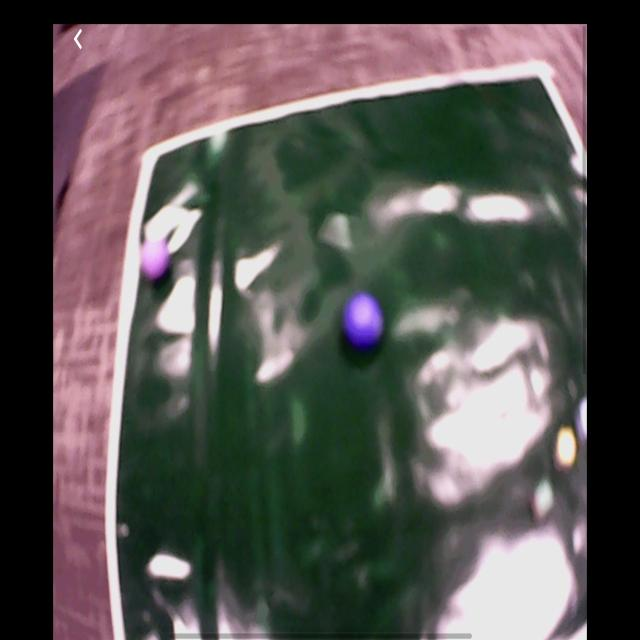ball: (345, 294, 385, 349), (142, 238, 170, 282)
